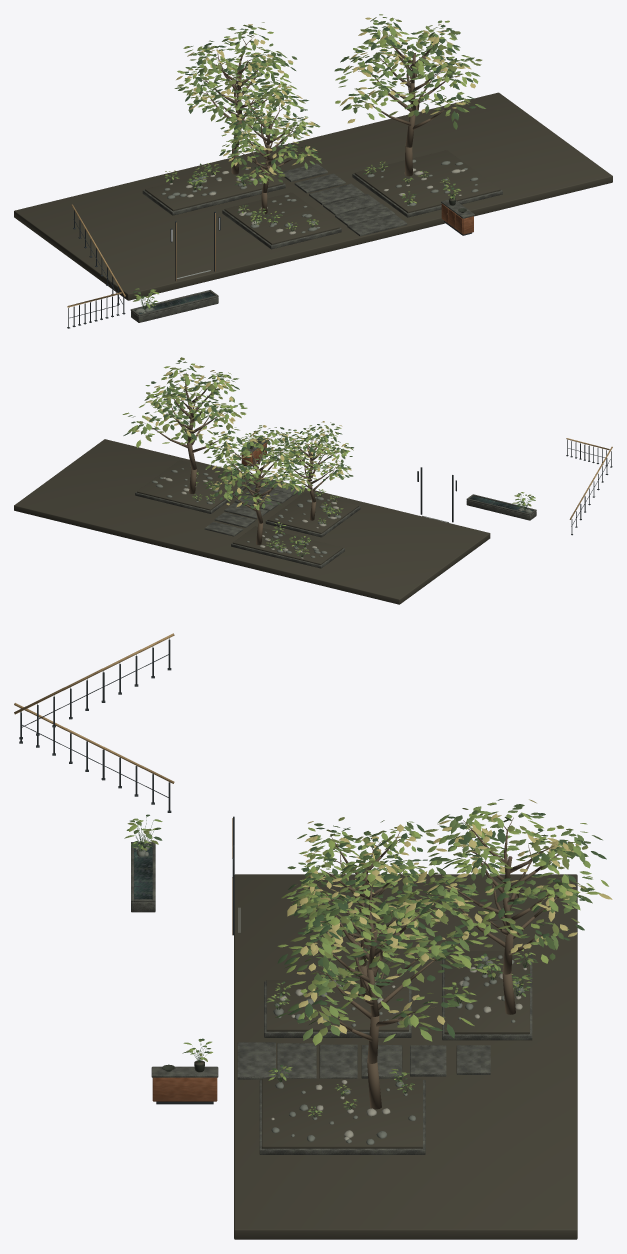
Rendered from lobby.glb.
The picture shows the model from 3 angles, top to bottom: view 1: azimuth 30°, elevation 25°; view 2: azimuth 150°, elevation 25°; view 3: azimuth 270°, elevation 25°; orthographic projection. The views are drawn at different scales.
Parts seen in each view (by area): view 1: lobby - Soil, lobby - M05 Basalt, lobby - Bark, lobby - Leaf 4, lobby - Leaf 1, lobby - Leaf 5, lobby - Leaf 2, lobby - Leaf 3, lobby - Leaf 0, lobby - Leaf 6, lobby - M06 Blackened steel, lobby - M01 River stone (+2 smaller); view 2: lobby - Soil, lobby - M05 Basalt, lobby - Bark, lobby - Leaf 4, lobby - Leaf 0, lobby - Leaf 1, lobby - Leaf 3, lobby - Leaf 2, lobby - Leaf 5, lobby - Leaf 6, lobby - M06 Blackened steel, lobby - M01 River stone; view 3: lobby - Soil, lobby - M05 Basalt, lobby - Bark, lobby - Leaf 4, lobby - Leaf 3, lobby - Leaf 1, lobby - Leaf 0, lobby - Leaf 2, lobby - Leaf 5, lobby - Leaf 6, lobby - M06 Blackened steel, lobby - M03 Smoked walnut (+4 smaller).
Part boxes in pixels (x1,y1,x2,y2): lobby - Soil: (14, 92, 612, 300); lobby - M05 Basalt: (130, 163, 502, 322); lobby - Bark: (198, 30, 463, 213); lobby - Leaf 4: (133, 22, 476, 309); lobby - Leaf 1: (135, 22, 469, 308); lobby - Leaf 5: (135, 17, 485, 305); lobby - Leaf 2: (137, 21, 474, 309); lobby - Leaf 3: (134, 14, 480, 301); lobby - Leaf 0: (133, 17, 482, 304); lobby - Leaf 6: (176, 17, 475, 177); lobby - M06 Blackened steel: (67, 210, 471, 328); lobby - M01 River stone: (135, 159, 478, 313); lobby - Soil: (14, 439, 490, 604); lobby - M05 Basalt: (135, 438, 536, 568); lobby - Bark: (142, 373, 339, 544); lobby - Leaf 4: (123, 368, 531, 557); lobby - Leaf 0: (135, 357, 531, 552); lobby - Leaf 1: (127, 366, 535, 553); lobby - Leaf 3: (122, 363, 533, 552); lobby - Leaf 2: (132, 360, 533, 555); lobby - Leaf 5: (128, 361, 535, 553); lobby - Leaf 6: (135, 365, 351, 507); lobby - M06 Blackened steel: (243, 440, 612, 535); lobby - M01 River stone: (152, 465, 532, 557); lobby - Soil: (195, 874, 577, 1239); lobby - M05 Basalt: (131, 842, 532, 1154); lobby - Bark: (313, 817, 577, 1109); lobby - Leaf 4: (131, 799, 606, 1117); lobby - Leaf 3: (129, 802, 608, 1116); lobby - Leaf 1: (124, 806, 594, 1113); lobby - Leaf 0: (127, 808, 588, 1115); lobby - Leaf 2: (130, 804, 602, 1112); lobby - Leaf 5: (126, 804, 592, 1115); lobby - Leaf 6: (287, 799, 612, 1033); lobby - M06 Blackened steel: (19, 639, 234, 1104); lobby - M03 Smoked walnut: (152, 1077, 217, 1101).
Size of the model in its own units: 25.48 by 7.07 by 15.51.
Materials: 20 (4 with a texture image).
